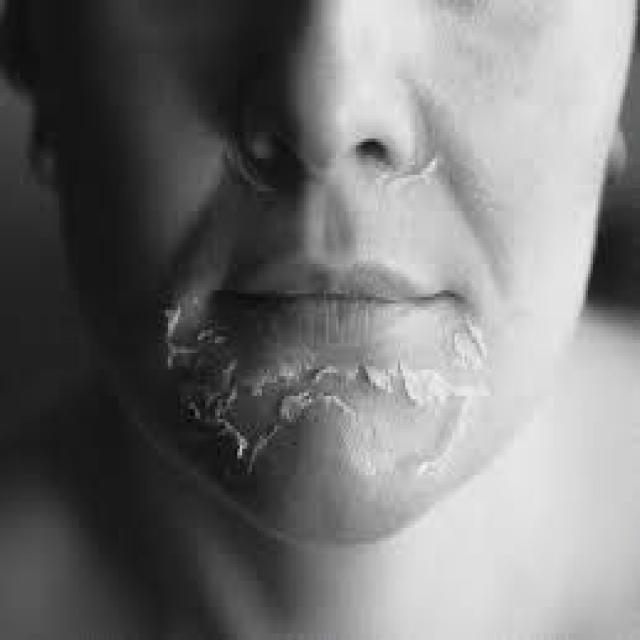flakiness: (157, 302, 488, 484)
